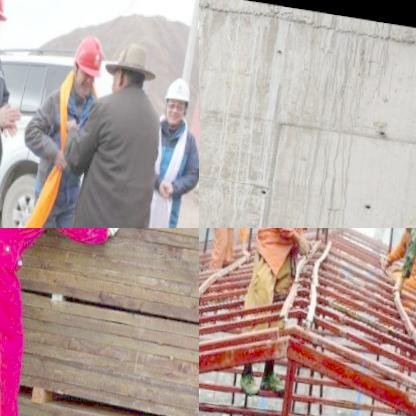helmet: (66, 26, 108, 101), (159, 71, 193, 126)
